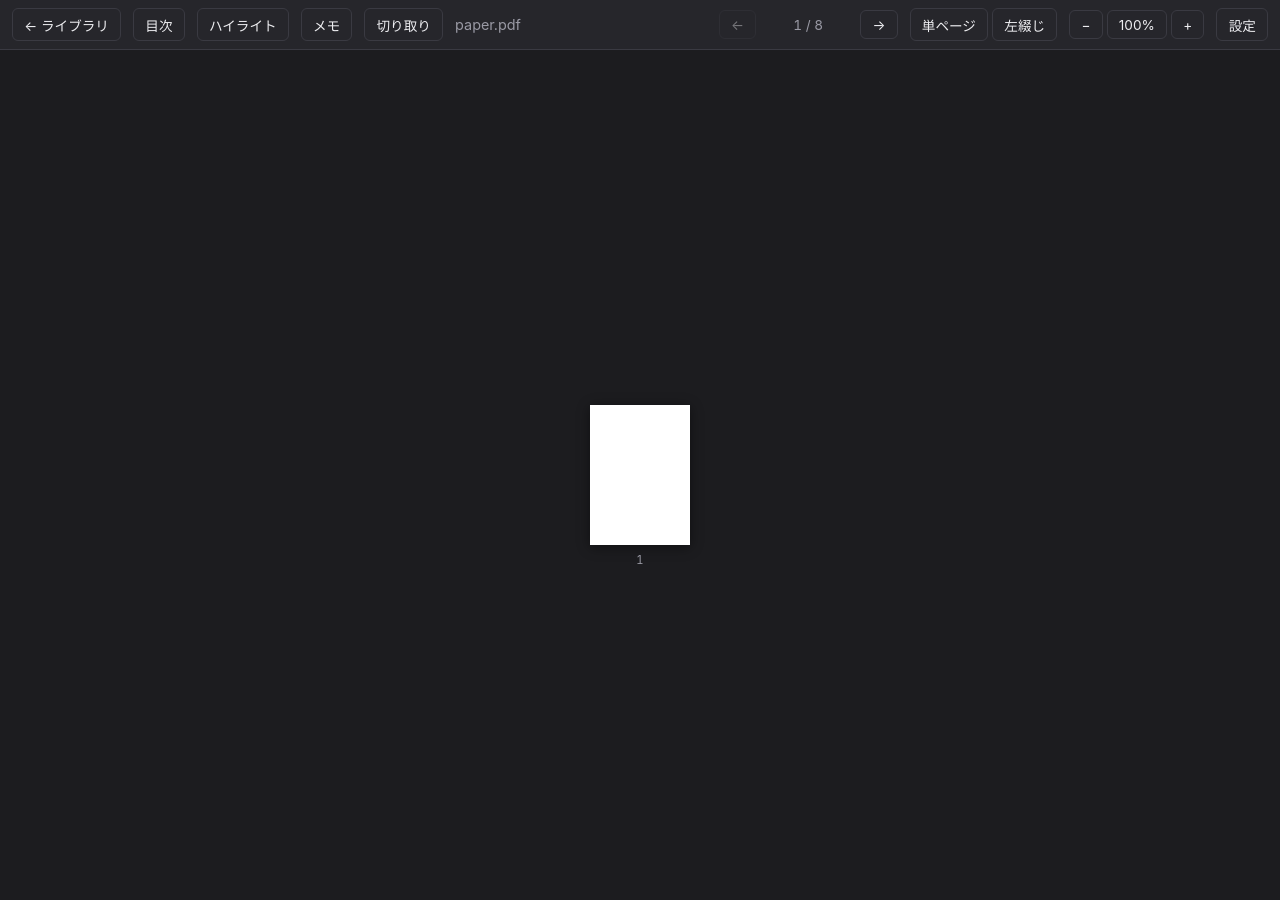
Test: PdfViewer › table of contents sidebar › offers no jump for a bookmark whose destination is unresolved
Click the button "目次": (159, 25) [133,8,185,41]
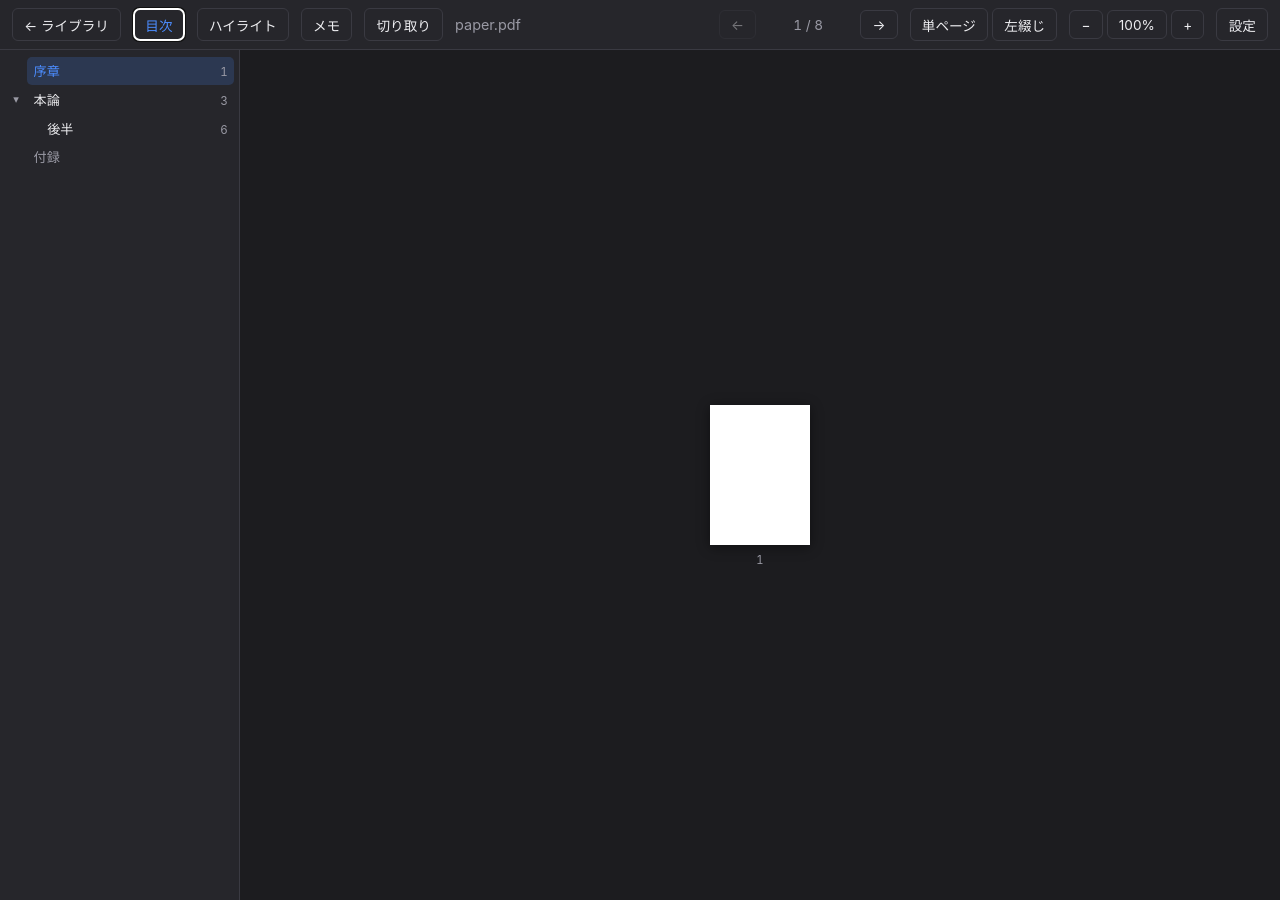
Now the list named "目次" is shown, box [6,57,234,171]
Now the button "付録" is disabled, box [27,142,234,171]
